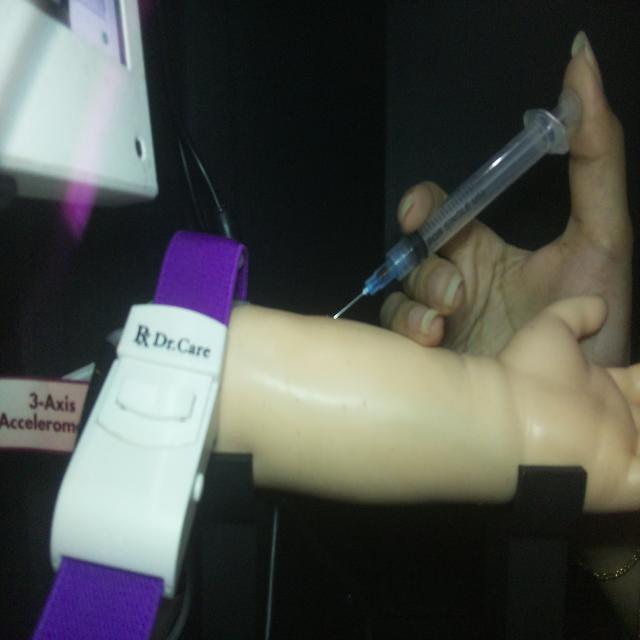30 degrees: (331, 83, 584, 322)
